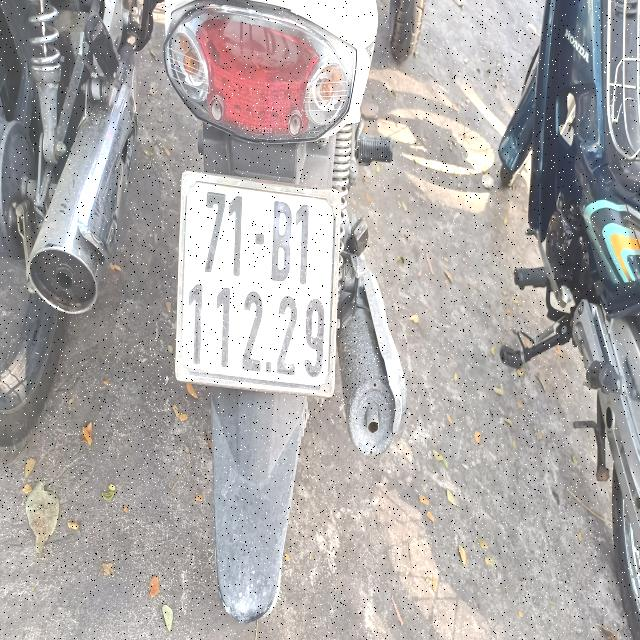1: (187, 279, 207, 372), (214, 280, 233, 375), (294, 200, 312, 288), (227, 192, 244, 279)
2: (275, 290, 299, 381), (242, 286, 261, 376)
7: (205, 188, 226, 278)
9: (302, 293, 326, 380)
B: (272, 198, 293, 284)
